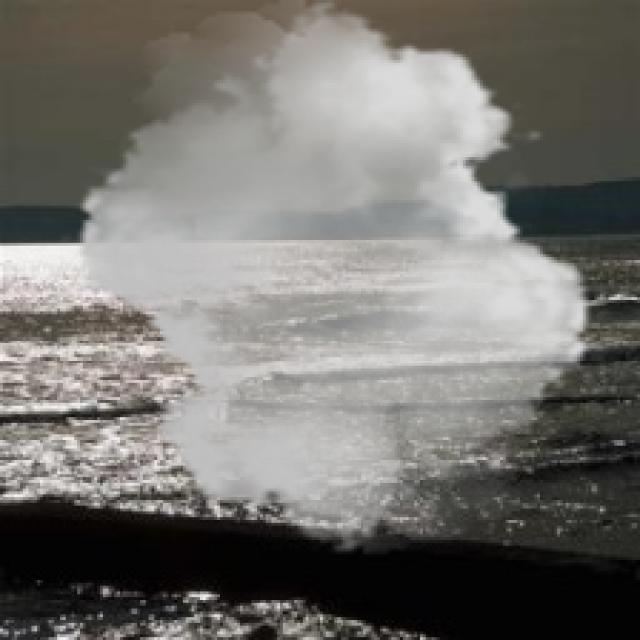Smoke: (57, 0, 612, 555)
